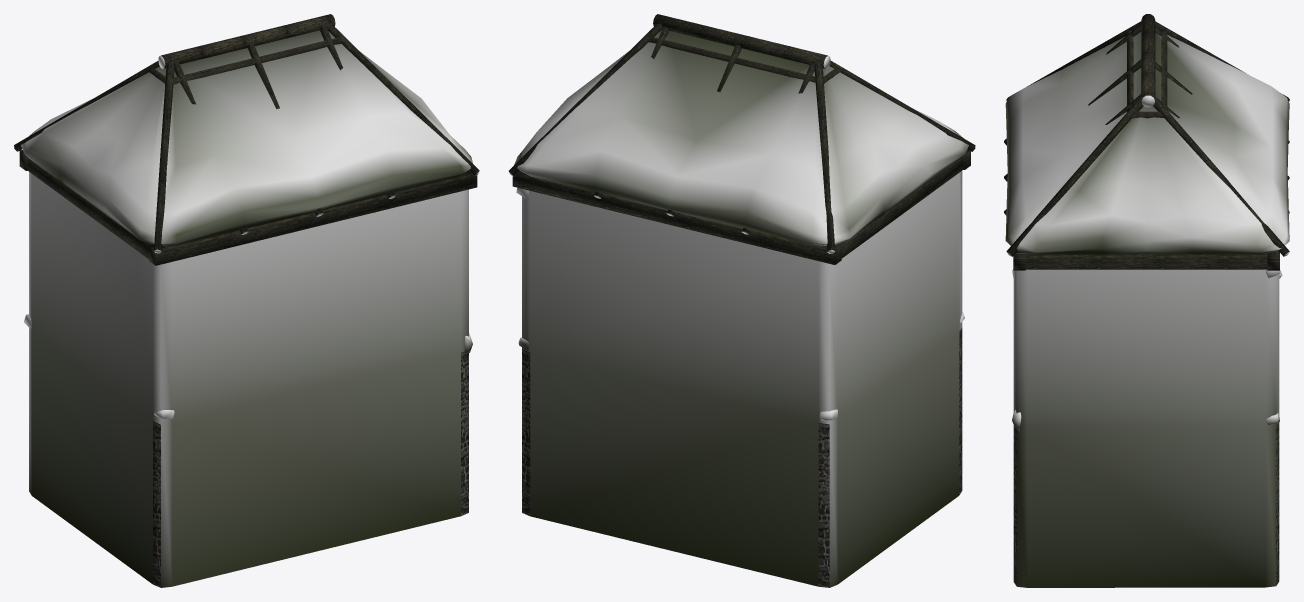
Rendered from ex_nord_house_03.dae.
3 renders of one model, left to right at view 1: azimuth 30°, elevation 25°; view 2: azimuth 150°, elevation 25°; view 3: azimuth 270°, elevation 25°, orthographic. The views are drawn at different scales.
Parts seen in each view (by area): view 1: nifid_19-matrix, nifid_15-matrix, nifid_27-matrix, nifid_1-matrix, nifid_6-matrix, nifid_39-matrix, nifid_11-matrix, nifid_35-matrix; view 2: nifid_19-matrix, nifid_15-matrix, nifid_27-matrix, nifid_1-matrix, nifid_6-matrix, nifid_39-matrix, nifid_11-matrix, nifid_35-matrix; view 3: nifid_27-matrix, nifid_19-matrix, nifid_15-matrix, nifid_1-matrix, nifid_11-matrix, nifid_35-matrix, nifid_6-matrix, nifid_39-matrix, nifid_31-matrix.
Boxes of the visible parts, x1,y1,x2,y2 form: nifid_19-matrix: (32, 333, 460, 586); nifid_15-matrix: (32, 174, 460, 423); nifid_27-matrix: (21, 30, 472, 245); nifid_1-matrix: (14, 14, 479, 265); nifid_6-matrix: (153, 351, 468, 587); nifid_39-matrix: (153, 189, 468, 424); nifid_11-matrix: (29, 328, 172, 587); nifid_35-matrix: (29, 172, 172, 424); nifid_19-matrix: (530, 332, 959, 586); nifid_15-matrix: (530, 173, 959, 422); nifid_27-matrix: (514, 30, 968, 245); nifid_1-matrix: (509, 14, 975, 264); nifid_6-matrix: (522, 327, 962, 587); nifid_39-matrix: (522, 171, 962, 424); nifid_11-matrix: (829, 421, 837, 587); nifid_35-matrix: (829, 263, 837, 423); nifid_27-matrix: (1005, 32, 1289, 254); nifid_19-matrix: (1027, 427, 1265, 587); nifid_15-matrix: (1027, 269, 1265, 427); nifid_1-matrix: (1004, 14, 1289, 270); nifid_11-matrix: (1016, 426, 1276, 587); nifid_35-matrix: (1016, 269, 1276, 427); nifid_6-matrix: (1013, 422, 1279, 585); nifid_39-matrix: (1013, 270, 1279, 425); nifid_31-matrix: (1012, 269, 1282, 431).
Size of the model in its own units: 545 by 414 by 731.
Materials: 3 (2 with a texture image).
